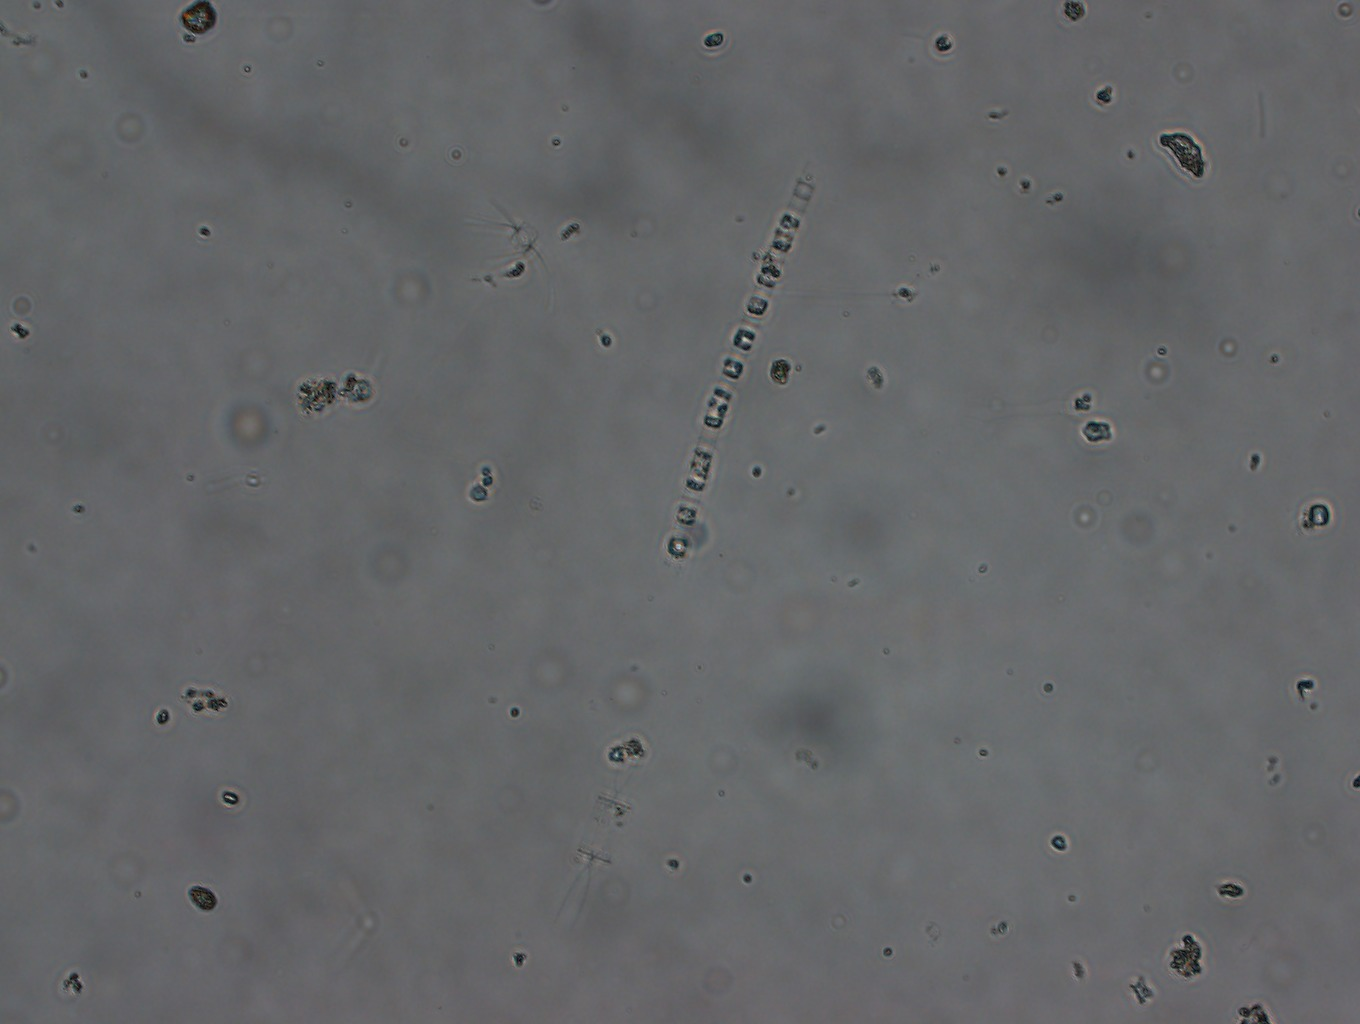skeletonema: (656, 161, 838, 561)
